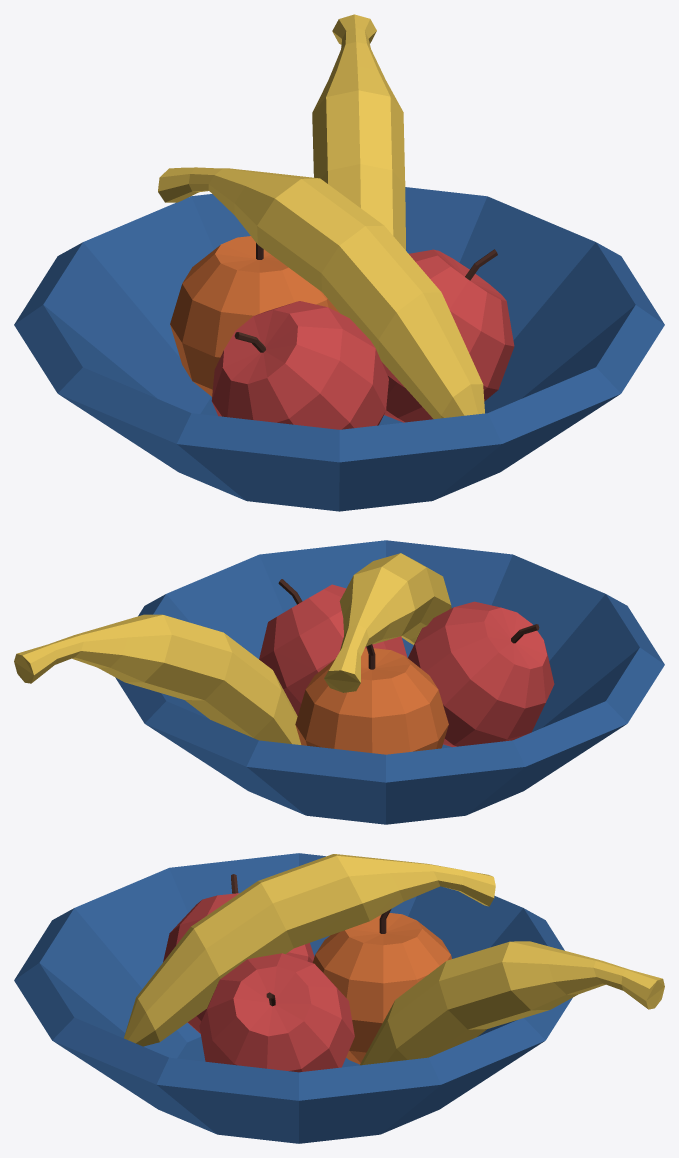
File: Fruits.fbx
3 renders of one model, top to bottom at view 1: azimuth 30°, elevation 25°; view 2: azimuth 150°, elevation 25°; view 3: azimuth 270°, elevation 25°, orthographic. The views are drawn at different scales.
Visible parts, largest first — view 1: Fruits; view 2: Fruits; view 3: Fruits.
Part boxes in pixels (x1,y1,x2,y2): Fruits: (14, 14, 664, 511); Fruits: (14, 540, 664, 824); Fruits: (14, 853, 664, 1143).
Size of the model in its own units: 44.5 by 19.5 by 50.82.
